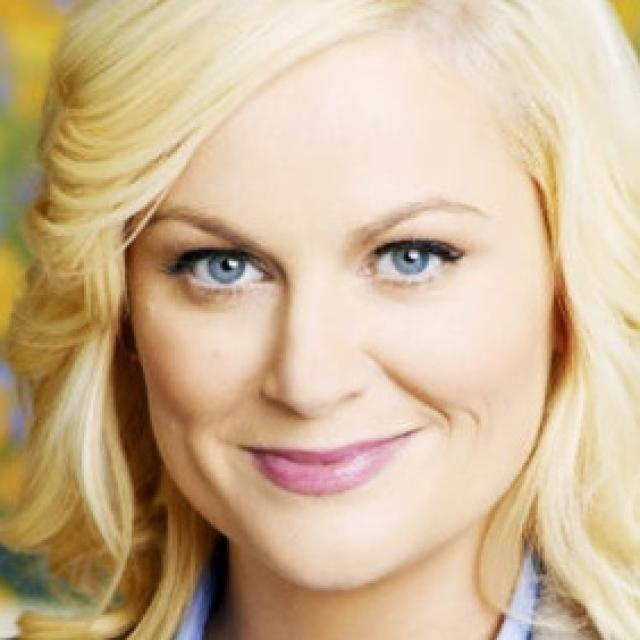Normal: (130, 37, 559, 601)
